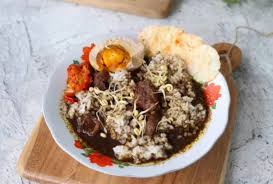Rawon: (62, 36, 210, 164)
